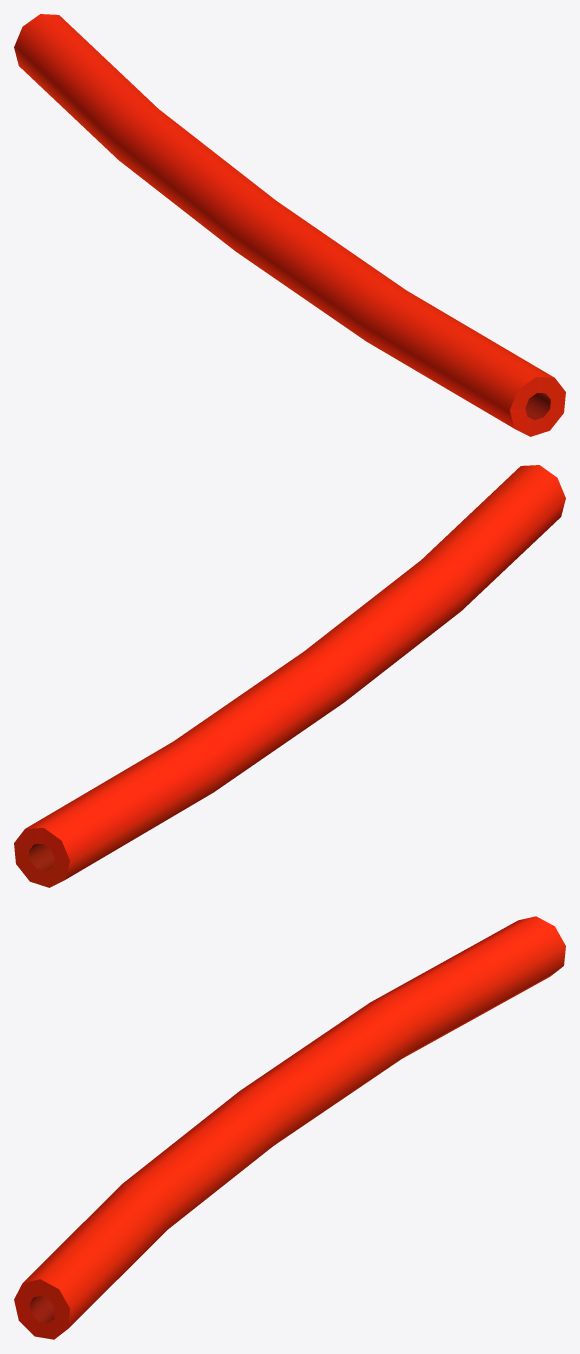
File: PoolNoodleRed.glb
3 renders of one model, top to bottom at view 1: azimuth 30°, elevation 25°; view 2: azimuth 150°, elevation 25°; view 3: azimuth 330°, elevation 25°, orthographic.
Parts seen in each view (by area): view 1: PoolNoodleRed; view 2: PoolNoodleRed; view 3: PoolNoodleRed.
Boxes of the visible parts, bbox=[...] form: PoolNoodleRed: bbox=[14, 14, 565, 436]; PoolNoodleRed: bbox=[14, 465, 565, 887]; PoolNoodleRed: bbox=[14, 916, 565, 1339].
Size of the model in its own units: 0.2596 by 0.1766 by 2.56.
1 material, 1 textured.
